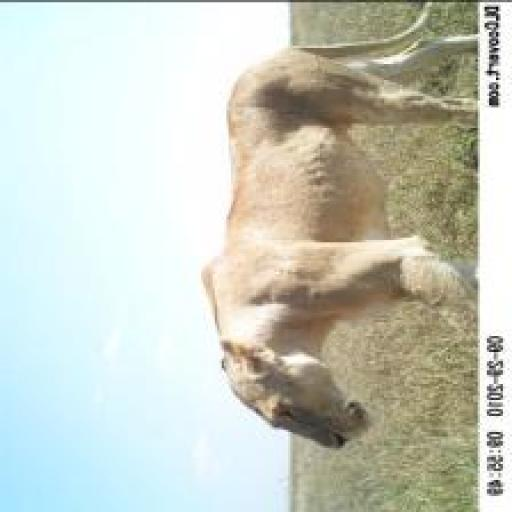lion: (160, 9, 482, 477)
